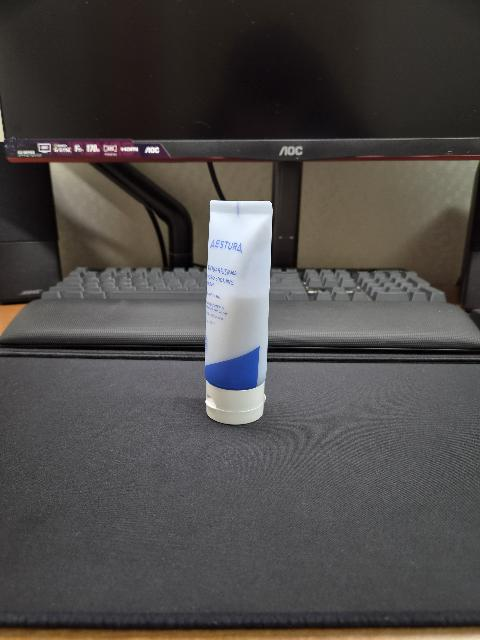handcream: (205, 200, 273, 425)
